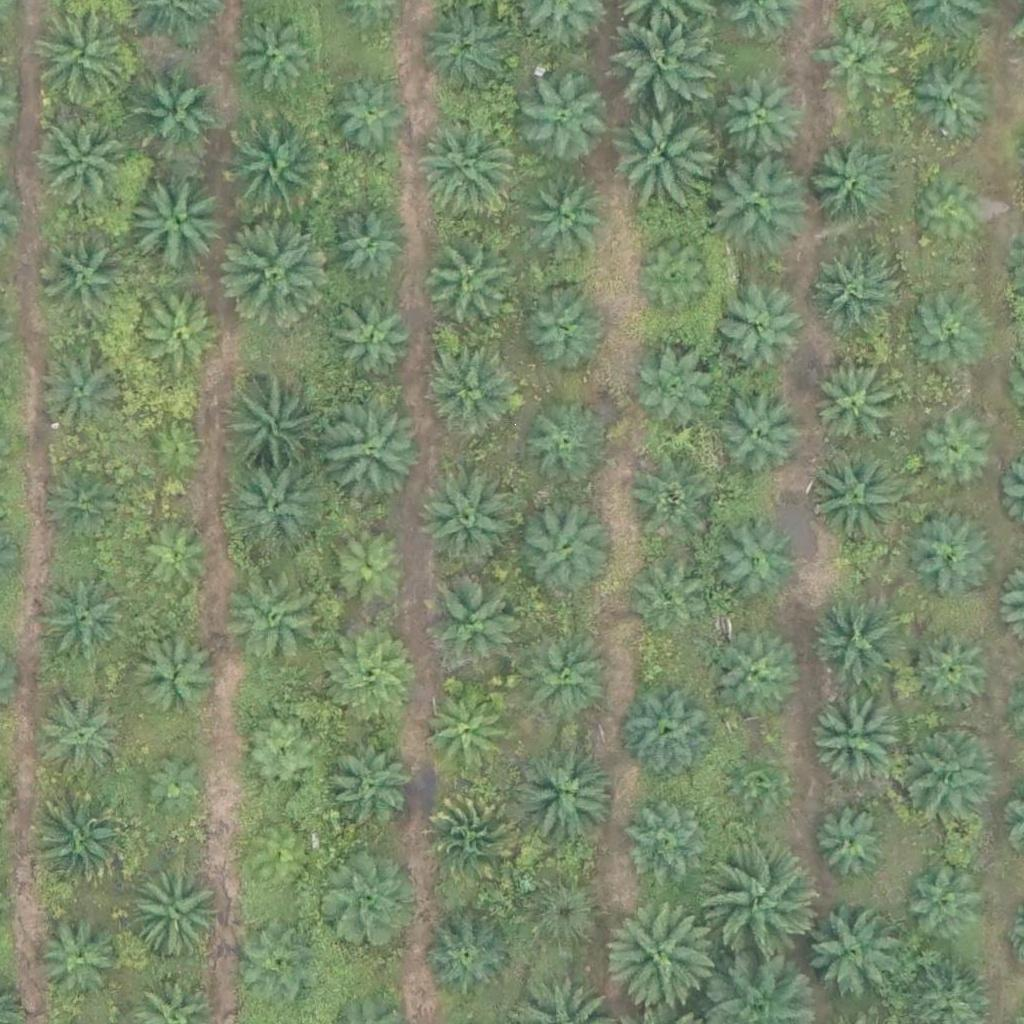Kelapa_Sawit: (607, 899, 720, 1012), (707, 847, 819, 961), (222, 114, 334, 227), (218, 213, 330, 326), (894, 723, 994, 824), (621, 683, 721, 784), (513, 740, 613, 841), (33, 790, 133, 891), (127, 172, 227, 273), (230, 460, 330, 561), (226, 574, 326, 675), (323, 621, 423, 722), (326, 397, 426, 498), (422, 569, 522, 670), (419, 112, 519, 213), (425, 343, 525, 444), (515, 492, 615, 593), (513, 625, 613, 726), (609, 99, 709, 200), (712, 155, 812, 256), (807, 451, 907, 552), (810, 591, 910, 692), (808, 690, 908, 790), (802, 906, 902, 1006), (317, 852, 417, 952), (426, 787, 526, 887), (127, 860, 227, 960), (35, 7, 135, 107), (30, 107, 130, 207), (417, 471, 517, 571), (616, 17, 716, 117), (902, 52, 1002, 152), (136, 66, 224, 155), (811, 144, 899, 233), (903, 856, 991, 944), (515, 873, 603, 961), (624, 804, 712, 892), (420, 689, 508, 777), (425, 912, 513, 1000), (31, 916, 119, 1004), (38, 237, 126, 325), (38, 573, 126, 661), (136, 290, 224, 378), (426, 12, 514, 100), (520, 283, 608, 371), (521, 403, 609, 491), (635, 347, 723, 435), (628, 461, 716, 549), (721, 79, 809, 167), (713, 290, 801, 378), (717, 391, 805, 479), (709, 520, 797, 608), (814, 14, 902, 102), (811, 250, 899, 338), (238, 710, 326, 798), (40, 351, 127, 440), (327, 298, 414, 387), (523, 169, 610, 258), (320, 740, 407, 828), (234, 922, 321, 1010), (42, 687, 129, 775), (32, 457, 119, 545), (131, 634, 218, 722), (236, 9, 323, 97), (229, 396, 316, 484), (230, 823, 317, 911), (328, 520, 415, 608), (326, 73, 413, 161), (331, 203, 418, 291), (425, 241, 512, 329), (523, 79, 610, 167), (626, 556, 713, 644), (629, 238, 716, 326), (716, 636, 803, 724), (814, 364, 901, 452), (909, 628, 996, 716), (909, 510, 996, 598), (916, 406, 1003, 494), (904, 283, 991, 371), (914, 177, 989, 253), (813, 806, 888, 882), (141, 412, 216, 488), (138, 515, 213, 591), (139, 747, 214, 822), (724, 750, 786, 813)
